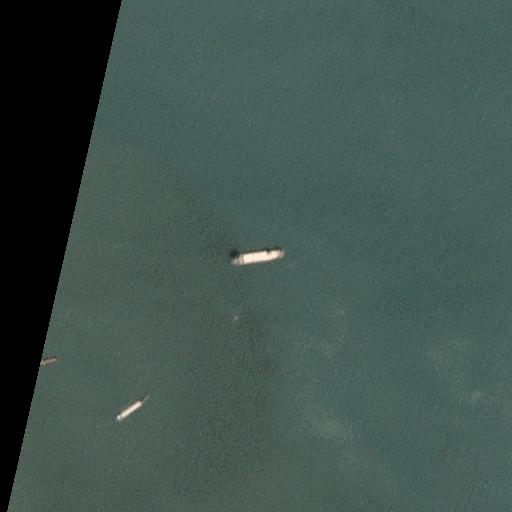ship: (228, 246, 284, 266), (115, 398, 146, 421)
